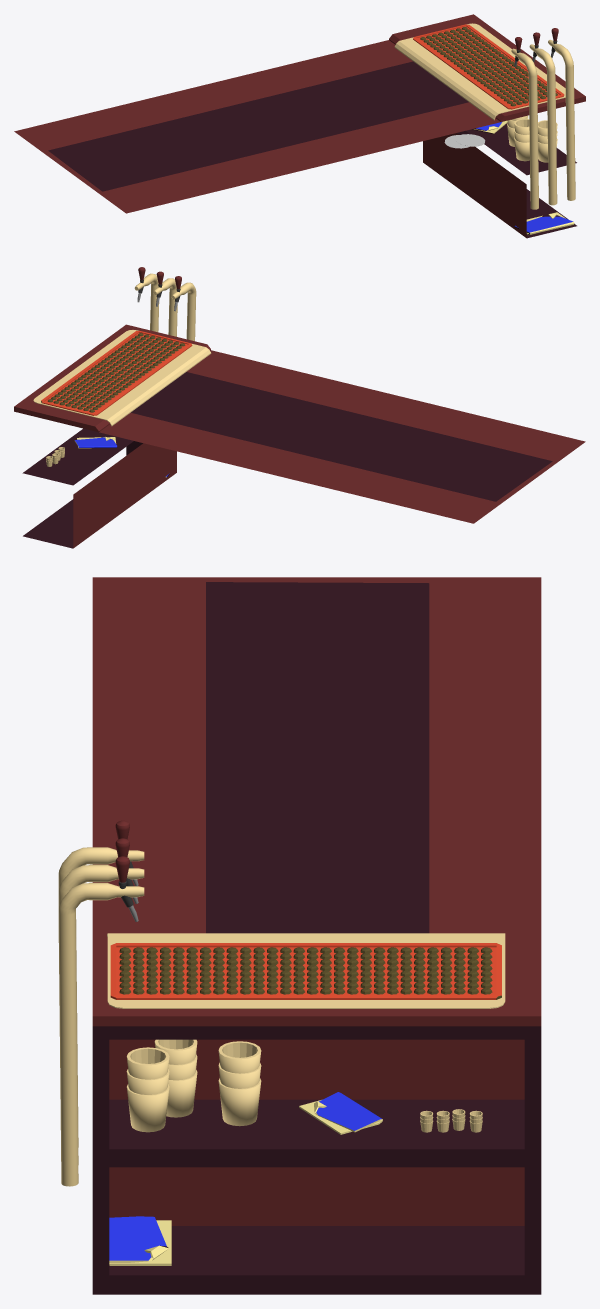
File: Table_dustyrose.FBX
The picture shows the model from 3 angles, top to bottom: view 1: azimuth 30°, elevation 25°; view 2: azimuth 150°, elevation 25°; view 3: azimuth 270°, elevation 25°; orthographic projection. The views are drawn at different scales.
Parts seen in each view (by area): view 1: stol, bigpodstavka, skatert, kran.000, kran.002, kran.001, Plane.001, Cylinder.001, stakan, Podstavkapodkrygky.002; view 2: stol, bigpodstavka, skatert, kran.001, kran.002, kran.000, tryapka; view 3: stol, bigpodstavka, skatert, kran.002, Cylinder.002, stakan, Plane.001, Cylinder.001, tryapka, kran.000, kran.001.
Boxes of the visible parts, x1,y1,x2,y2 form: stol: (14, 14, 585, 238); bigpodstavka: (413, 24, 564, 109); skatert: (394, 23, 565, 120); kran.000: (529, 32, 557, 205); kran.002: (548, 28, 575, 200); kran.001: (511, 37, 538, 209); Plane.001: (514, 212, 574, 235); Cylinder.001: (514, 118, 529, 161); stakan: (538, 120, 557, 162); Podstavkapodkrygky.002: (455, 134, 485, 146); stol: (14, 324, 585, 548); bigpodstavka: (41, 330, 192, 415); skatert: (33, 330, 211, 426); kran.001: (171, 276, 196, 341); kran.002: (134, 267, 159, 332); kran.000: (153, 271, 177, 336); tryapka: (74, 437, 117, 448); stol: (92, 577, 541, 1294); bigpodstavka: (110, 943, 501, 999); skatert: (107, 933, 505, 1008); kran.002: (58, 856, 144, 1186); Cylinder.002: (218, 1041, 261, 1126); stakan: (126, 1047, 169, 1132); Plane.001: (109, 1216, 171, 1265); Cylinder.001: (154, 1039, 197, 1117); tryapka: (299, 1092, 382, 1134); kran.000: (58, 838, 144, 1164); kran.001: (58, 820, 144, 1147).
Size of the model in its own units: 7065 by 3074 by 3214.
